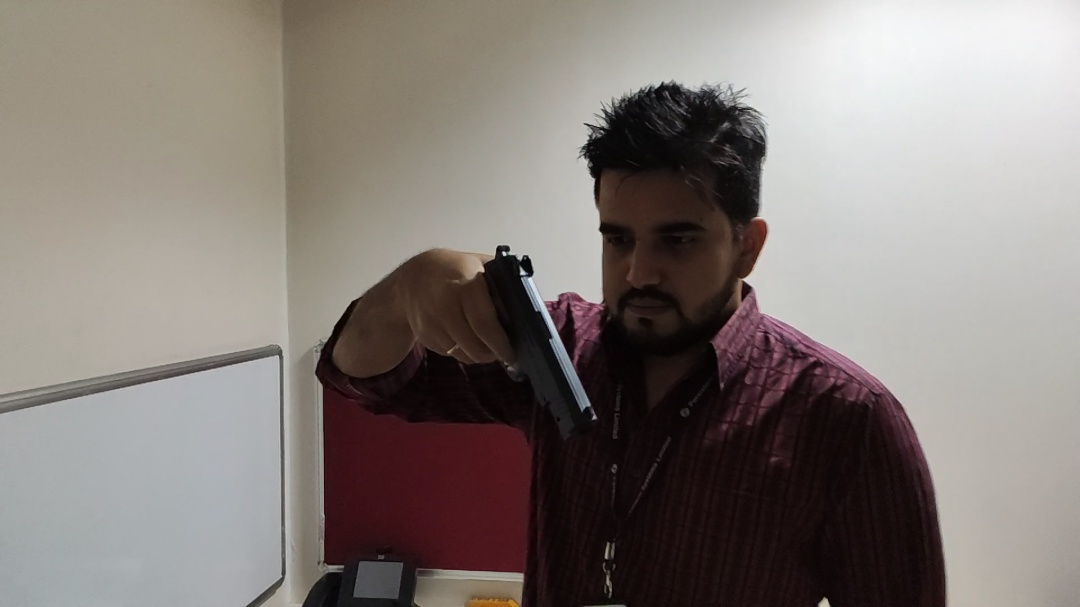gun: (441, 240, 611, 454)
